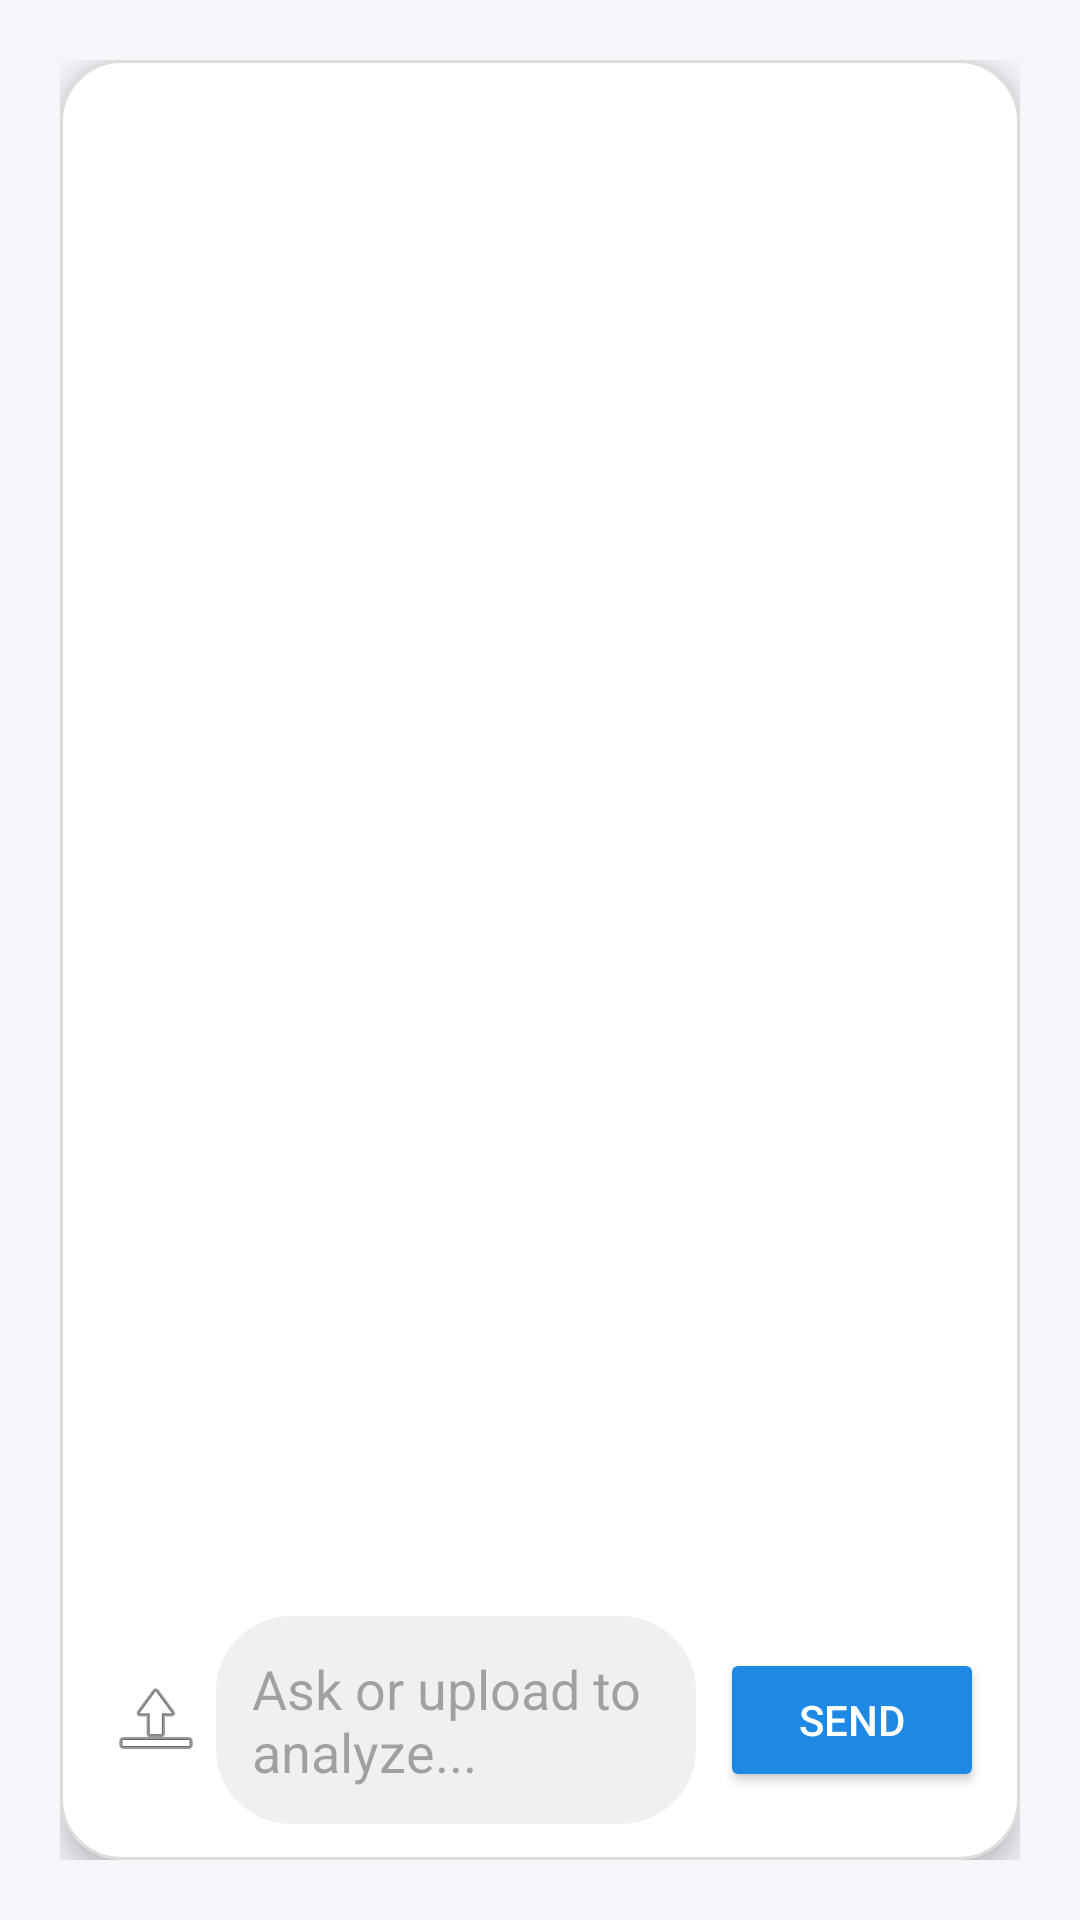

Screen size 1080 x 1920. Icon name, then its center in pixels as [x,y]:
Upload Document: [156,1718]
